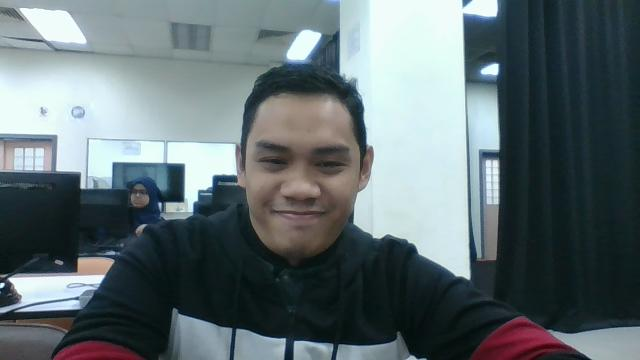senang: (218, 57, 399, 270)
